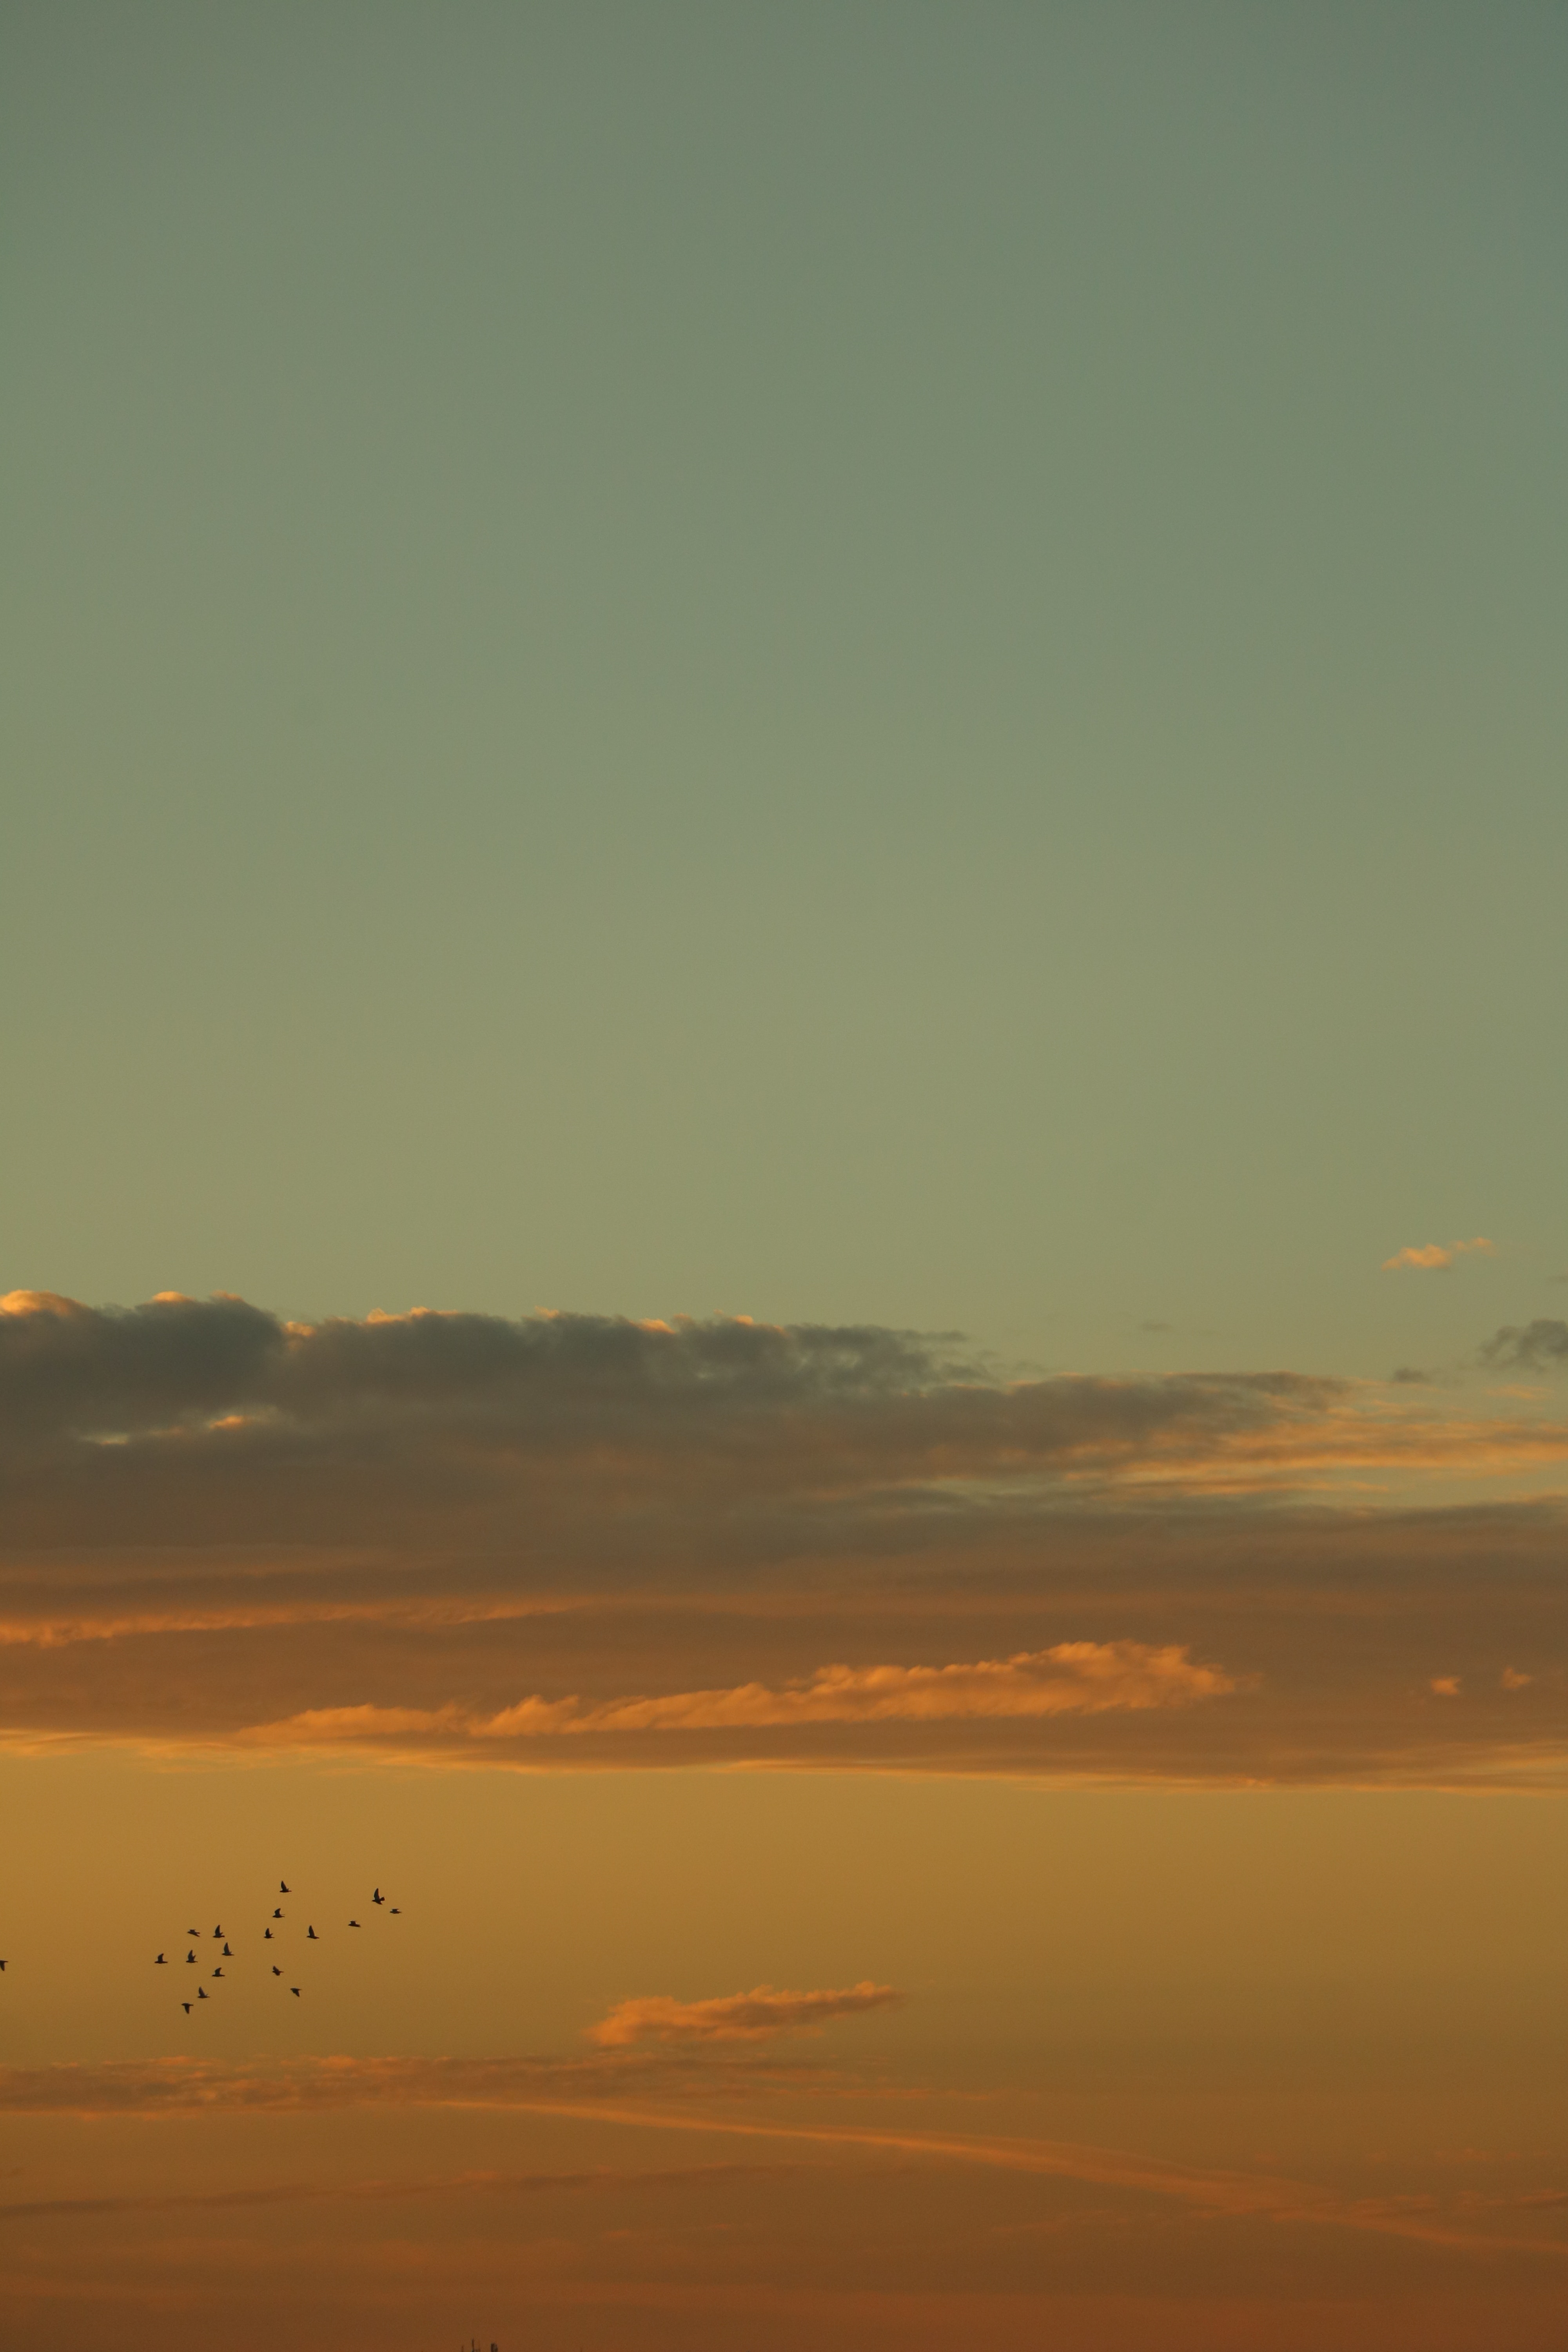Stratus: (9, 1225, 1568, 1848), (14, 1972, 1568, 2273)
